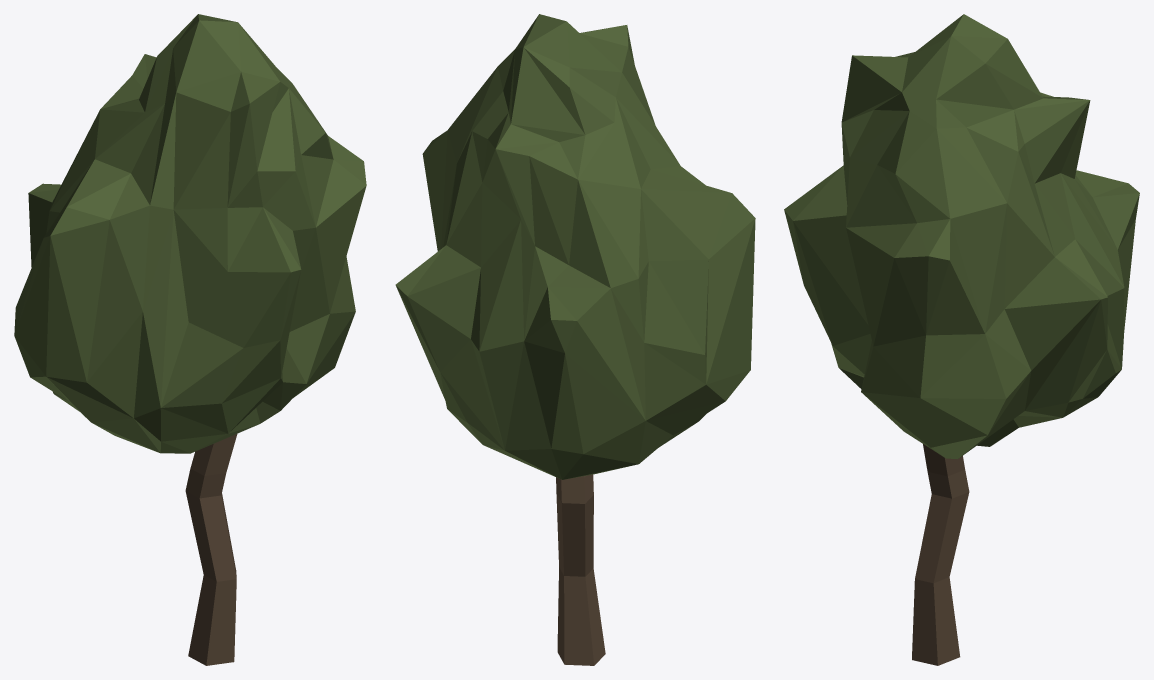
File: Tree_048.fbx
The picture shows the model from 3 angles, left to right: view 1: azimuth 30°, elevation 25°; view 2: azimuth 150°, elevation 25°; view 3: azimuth 270°, elevation 25°; orthographic projection. The views are drawn at different scales.
Visible parts, largest first — view 1: Tree_048; view 2: Tree_048; view 3: Tree_048.
Boxes of the visible parts, x1,y1,x2,y2 form: Tree_048: (14, 14, 366, 665); Tree_048: (395, 14, 755, 665); Tree_048: (784, 14, 1139, 665).
Bounding box in the file's own units: 0.5207 × 0.9928 × 0.4995.
Materials: 1 (1 with a texture image).
